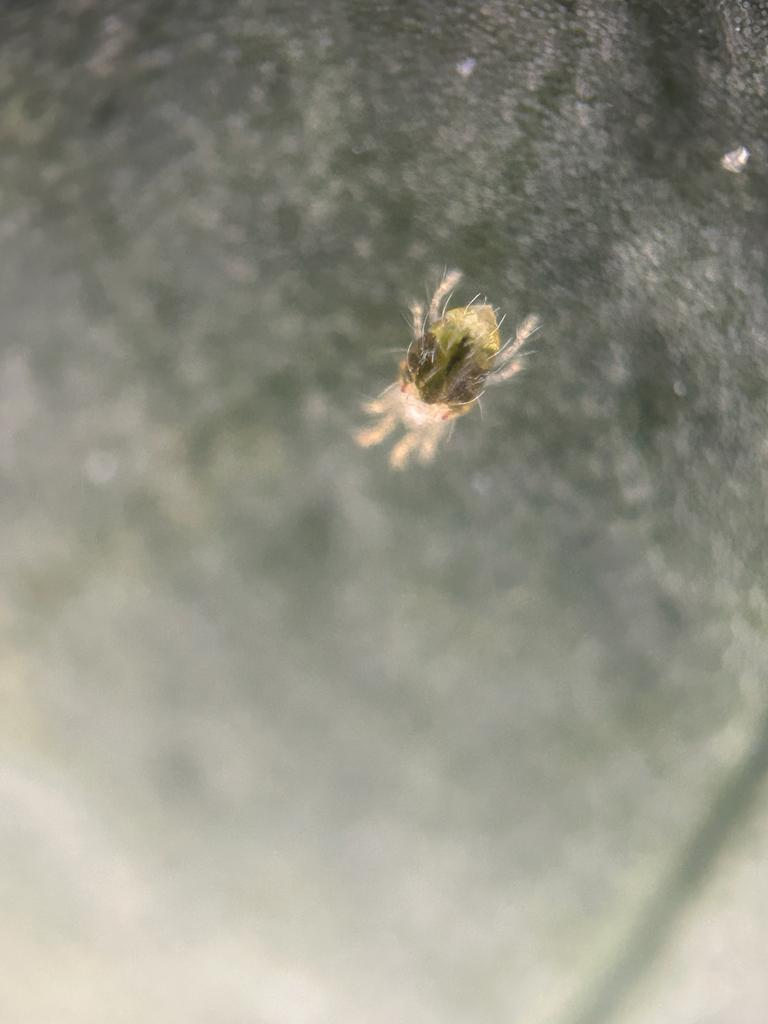tiny_pests: (279, 227, 590, 519)
